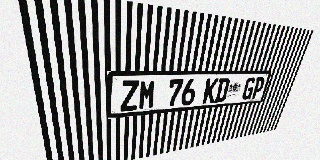6: (180, 79, 198, 106)
7: (166, 79, 184, 107)
D: (214, 78, 230, 103)
G: (241, 77, 257, 100)
K: (202, 78, 219, 104)
M: (138, 80, 157, 110)
P: (250, 77, 266, 99)
Z: (120, 80, 139, 112)
